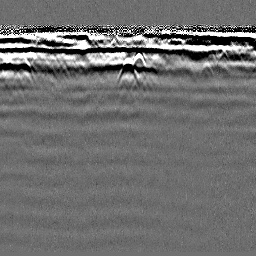cavity: (115, 57, 140, 83)
